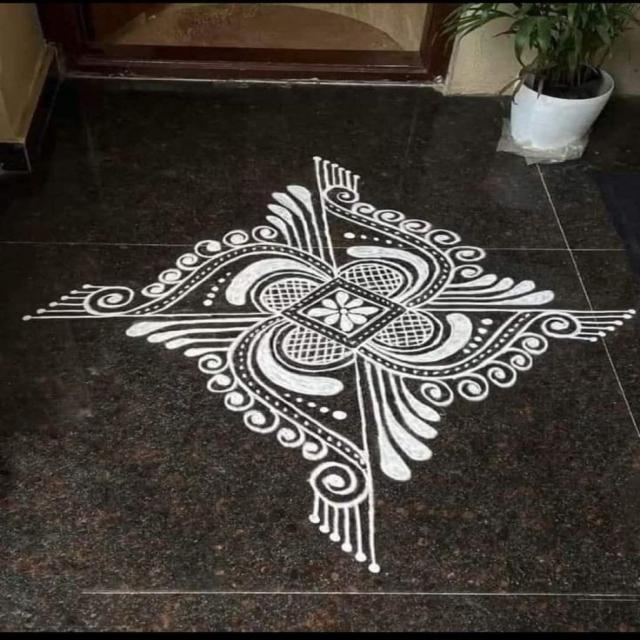rangoli: (29, 155, 640, 573)
